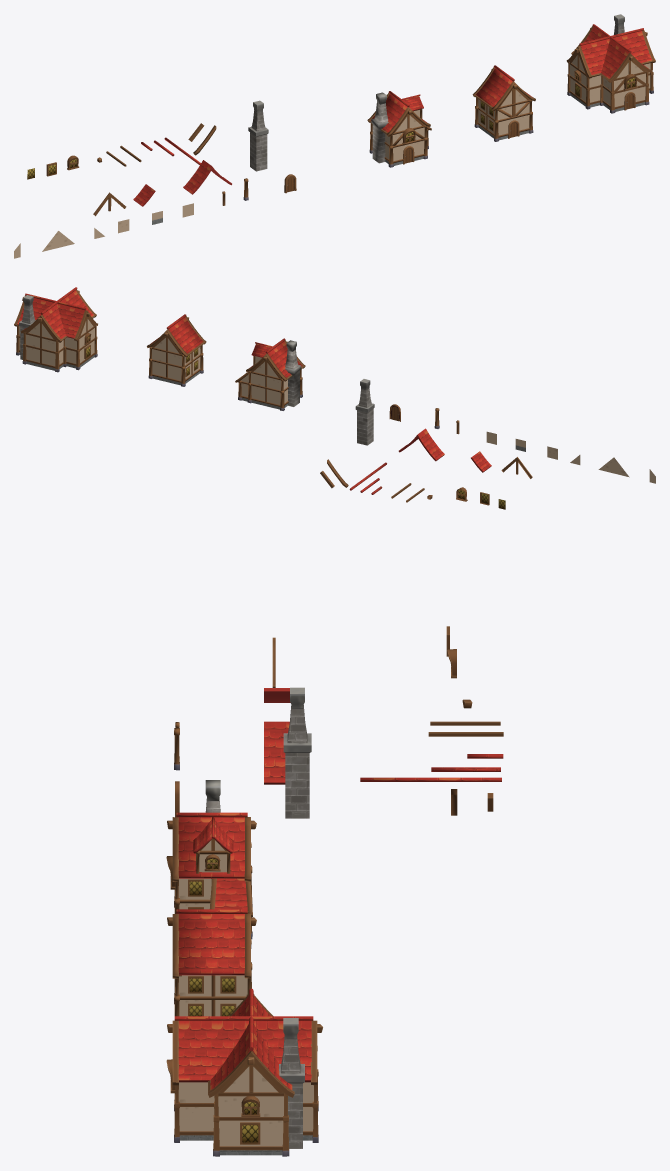
The model's file is modular_asset.fbx.
3 renders of one model, top to bottom at view 1: azimuth 30°, elevation 25°; view 2: azimuth 150°, elevation 25°; view 3: azimuth 270°, elevation 25°, orthographic. The views are drawn at different scales.
Visible parts, largest first — view 1: house2, house3, house1, Fire_mound, roof1; view 2: house2, house3, house1, Fire_mound, roof1; view 3: house2, house3, house1, Fire_mound, roof1.
Boxes of the visible parts, bbox=[...] form: house2: bbox=[566, 14, 655, 113]; house3: bbox=[367, 91, 431, 167]; house1: bbox=[472, 65, 535, 141]; Fire_mound: bbox=[248, 100, 268, 171]; roof1: bbox=[183, 160, 231, 194]; house2: bbox=[14, 287, 97, 372]; house3: bbox=[235, 338, 305, 410]; house1: bbox=[147, 314, 206, 386]; Fire_mound: bbox=[355, 379, 374, 445]; roof1: bbox=[398, 428, 444, 461]; house2: bbox=[166, 988, 322, 1156]; house3: bbox=[166, 780, 256, 948]; house1: bbox=[167, 909, 256, 1016]; Fire_mound: bbox=[283, 687, 311, 818]; roof1: bbox=[264, 721, 289, 784].
Bounding box in the file's own units: 11796 × 1332 × 2799.
Materials: 1 (1 with a texture image).
